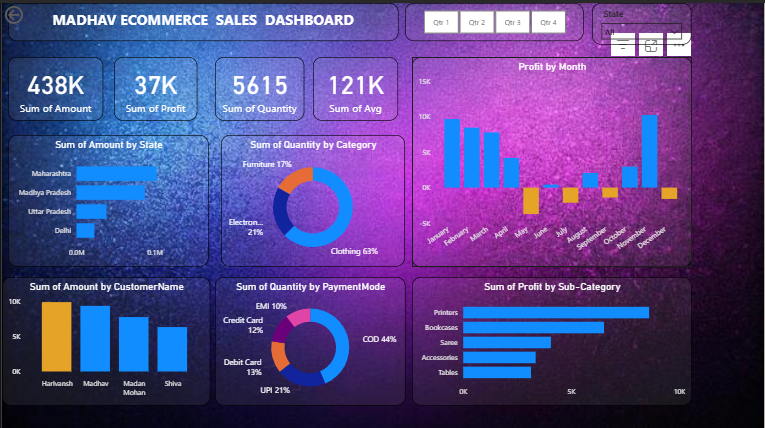

This screenshot's page, from the dashboard's own definition file:
{"tool":"powerbi","page":{"name":"Page 1","canvas":[1280,720],"ordinal":0},"visuals":[{"type":"textbox","box":[10,0,655.7,64.3],"z":0},{"type":"columnChart","title":"Profit by Month","fields":{"Category":["Orders (3).Order Date.Variation.Date Hierarchy.Month"],"Y":["Sum(Details (1).Profit)"]},"box":[688.6,90,470,352.9],"z":1000},{"type":"barChart","fields":{"Category":["Details (1).Sub-Category"],"Y":["Sum(Details (1).Profit)"]},"box":[688.6,460,470,215.7],"z":2000},{"type":"donutChart","fields":{"Category":["Details (1).Category"],"Y":["Sum(Details (1).Quantity)"]},"box":[368.6,221.4,308.6,221.4],"z":3000},{"type":"donutChart","fields":{"Y":["Sum(Details (1).Quantity)"],"Category":["Details (1).PaymentMode"]},"box":[357.1,460,320,215.7],"z":4000},{"type":"card","fields":{"Values":["Sum(Details (1).Amount)"]},"box":[10,90,160,107.1],"z":5000},{"type":"card","fields":{"Values":["Sum(Details (1).Profit)"]},"box":[188.6,90,140,107.1],"z":6000},{"type":"actionButton","box":[0,0,100,40],"z":7000},{"type":"card","fields":{"Values":["Sum(Details (1).Quantity)"]},"box":[358.6,90,150,107.1],"z":8000},{"type":"card","fields":{"Values":["Sum(Details (1).Avg)"]},"box":[522.9,90,142.9,107.1],"z":9000},{"type":"barChart","fields":{"Category":["Orders (3).State"],"Y":["Sum(Details (1).Amount)"]},"box":[10,221.4,337.1,221.4],"z":10000},{"type":"columnChart","fields":{"Category":["Orders (3).CustomerName"],"Y":["Sum(Details (1).Amount)"]},"box":[0,460,350,215.7],"z":11000},{"type":"slicer","fields":{"Values":["Orders (3).Order Date.Variation.Date Hierarchy.Quarter"]},"box":[677.1,0,300,64.3],"z":11001},{"type":"slicer","fields":{"Values":["Orders (3).State"]},"box":[991.4,0,167.1,70],"z":11002}]}

Visuals, with their boxes in screenshot pixels (x1, y1, x2, y2), scaled from the page's 1280x720 canvas onto the 765x428 screenshot:
textbox: (x1=6, y1=0, x2=398, y2=38)
"Profit by Month" columnChart: (x1=412, y1=54, x2=692, y2=263)
barChart - Details (1).Sub-Category x Sum(Details (1).Profit): (x1=412, y1=273, x2=692, y2=402)
donutChart - Details (1).Category x Sum(Details (1).Quantity): (x1=220, y1=132, x2=405, y2=263)
donutChart - Sum(Details (1).Quantity) x Details (1).PaymentMode: (x1=213, y1=273, x2=405, y2=402)
card - Sum(Details (1).Amount): (x1=6, y1=54, x2=102, y2=117)
card - Sum(Details (1).Profit): (x1=113, y1=54, x2=196, y2=117)
actionButton: (x1=0, y1=0, x2=60, y2=24)
card - Sum(Details (1).Quantity): (x1=214, y1=54, x2=304, y2=117)
card - Sum(Details (1).Avg): (x1=313, y1=54, x2=398, y2=117)
barChart - Orders (3).State x Sum(Details (1).Amount): (x1=6, y1=132, x2=207, y2=263)
columnChart - Orders (3).CustomerName x Sum(Details (1).Amount): (x1=0, y1=273, x2=209, y2=402)
slicer - Orders (3).Order Date.Variation.Date Hierarchy.Quarter: (x1=405, y1=0, x2=584, y2=38)
slicer - Orders (3).State: (x1=593, y1=0, x2=692, y2=42)
